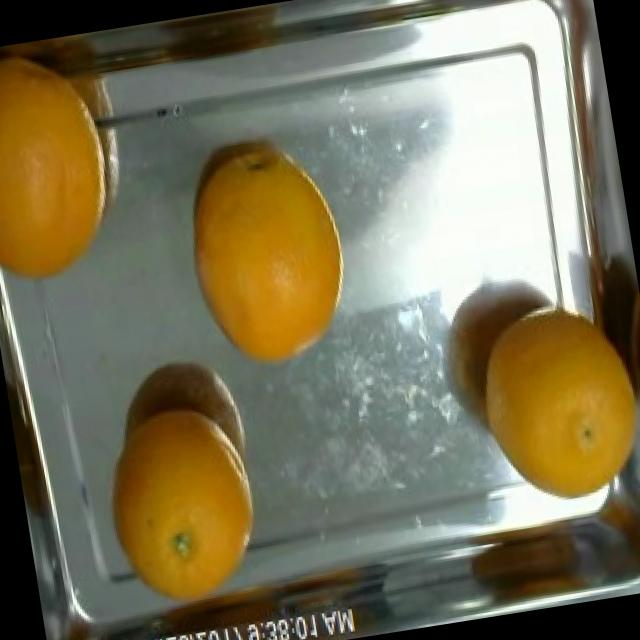Fruit: (452, 287, 640, 541), (176, 182, 364, 389), (0, 86, 135, 304)
